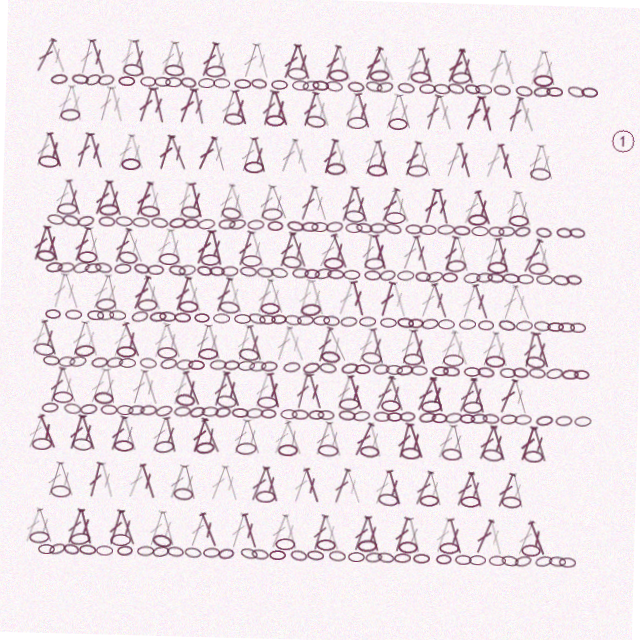chain: (157, 537, 179, 553), (34, 349, 56, 364), (239, 349, 261, 364), (116, 255, 137, 270), (218, 303, 240, 317), (485, 444, 507, 458), (382, 491, 404, 505), (75, 538, 97, 552), (116, 68, 137, 82), (300, 115, 321, 129), (218, 209, 239, 223), (34, 256, 55, 270), (280, 256, 301, 270), (95, 303, 116, 317), (300, 303, 321, 317), (75, 350, 96, 364), (321, 350, 342, 364), (362, 350, 383, 364), (526, 350, 547, 364), (218, 397, 239, 411), (157, 444, 178, 458), (198, 444, 219, 458), (71, 266, 90, 281), (54, 548, 73, 563), (34, 162, 55, 175), (403, 162, 424, 175), (526, 162, 547, 175), (54, 209, 75, 222), (259, 209, 280, 222), (444, 256, 465, 269), (177, 397, 198, 410), (341, 397, 362, 410), (423, 397, 444, 410), (75, 444, 96, 457), (239, 444, 260, 457), (321, 444, 342, 457), (78, 78, 96, 93), (59, 220, 78, 234), (74, 220, 93, 234), (381, 220, 400, 234), (424, 267, 443, 281), (303, 361, 322, 375), (157, 408, 176, 422), (520, 549, 539, 563), (158, 68, 178, 81), (199, 68, 219, 81), (281, 68, 301, 81), (363, 68, 383, 81), (445, 68, 465, 81), (55, 115, 75, 128), (219, 115, 239, 128), (322, 162, 342, 175), (96, 209, 116, 222), (178, 209, 198, 222), (342, 209, 362, 222), (363, 256, 383, 269), (137, 303, 157, 316), (96, 397, 116, 410), (465, 397, 485, 410), (363, 444, 383, 457), (178, 491, 198, 504), (506, 491, 526, 504), (35, 538, 55, 551), (363, 538, 383, 551), (382, 210, 403, 222), (157, 257, 178, 269), (131, 314, 149, 328), (444, 351, 465, 363), (259, 398, 280, 410), (191, 408, 209, 422), (116, 539, 137, 551), (322, 69, 342, 81), (404, 69, 424, 81), (527, 69, 547, 81), (260, 116, 280, 128), (342, 116, 362, 128), (383, 116, 403, 128), (117, 163, 137, 175), (240, 163, 260, 175), (363, 163, 383, 175), (137, 210, 157, 222), (465, 210, 485, 222), (506, 210, 526, 222), (76, 257, 96, 269), (199, 257, 219, 269), (240, 257, 260, 269), (322, 257, 342, 269), (486, 257, 506, 269), (527, 257, 547, 269), (178, 304, 198, 316), (260, 304, 280, 316), (117, 351, 137, 363), (158, 351, 178, 363), (199, 351, 219, 363), (404, 351, 424, 363), (486, 351, 506, 363), (55, 398, 75, 410), (383, 398, 403, 410), (35, 445, 55, 457), (117, 445, 137, 457), (281, 445, 301, 457), (404, 445, 424, 457), (445, 445, 465, 457), (527, 445, 547, 457), (55, 492, 75, 504), (260, 492, 280, 504), (424, 492, 444, 504), (465, 492, 485, 504), (281, 539, 301, 551), (322, 539, 342, 551), (404, 539, 424, 551), (445, 539, 465, 551), (527, 539, 547, 551), (91, 79, 109, 92), (359, 79, 377, 92), (370, 79, 388, 92), (441, 79, 459, 92), (561, 79, 579, 92), (44, 220, 62, 233), (166, 220, 184, 233), (226, 220, 244, 233), (323, 220, 341, 233), (93, 267, 111, 280), (177, 267, 195, 280), (313, 267, 331, 280), (248, 314, 266, 327), (498, 314, 516, 327), (70, 361, 88, 374), (107, 361, 125, 374), (161, 361, 179, 374), (342, 361, 360, 374), (547, 361, 565, 374), (421, 408, 439, 421), (447, 408, 465, 421), (158, 549, 176, 562), (246, 549, 264, 562), (541, 549, 559, 562), (458, 79, 475, 92), (512, 220, 529, 233), (132, 267, 149, 280), (378, 267, 395, 280), (217, 408, 234, 421), (69, 549, 86, 562), (44, 80, 62, 92), (296, 80, 314, 92), (319, 80, 337, 92), (341, 80, 359, 92), (391, 80, 409, 92), (427, 80, 445, 92), (509, 80, 527, 92), (527, 80, 545, 92), (148, 221, 166, 233), (195, 221, 213, 233), (284, 221, 302, 233), (353, 221, 371, 233), (44, 268, 62, 280), (56, 268, 74, 280), (83, 268, 101, 280), (167, 268, 185, 280), (255, 268, 273, 280), (269, 268, 287, 280), (462, 268, 480, 280), (551, 268, 569, 280), (149, 315, 167, 327), (284, 315, 302, 327), (340, 315, 358, 327), (421, 315, 439, 327), (59, 362, 77, 374), (92, 362, 110, 374), (177, 362, 195, 374), (250, 362, 268, 374), (284, 362, 302, 374), (320, 362, 338, 374), (397, 362, 415, 374), (478, 362, 496, 374), (66, 409, 84, 421), (82, 409, 100, 421), (130, 409, 148, 421), (176, 409, 194, 421), (248, 409, 266, 421), (355, 409, 373, 421), (538, 409, 556, 421), (190, 550, 208, 562), (257, 550, 275, 562), (296, 550, 314, 562), (371, 550, 389, 562), (383, 550, 401, 562), (507, 550, 525, 562), (174, 80, 191, 92), (533, 221, 550, 233), (195, 268, 212, 280), (224, 550, 241, 562), (65, 80, 83, 91), (487, 80, 505, 91), (238, 268, 256, 279), (501, 268, 519, 279), (142, 409, 160, 420), (306, 80, 323, 91), (469, 80, 486, 91), (575, 80, 592, 91), (113, 221, 130, 232), (216, 221, 233, 232), (245, 221, 262, 232), (367, 221, 384, 232), (435, 221, 452, 232), (496, 221, 513, 232), (113, 268, 130, 279), (220, 268, 237, 279), (291, 268, 308, 279), (396, 268, 413, 279), (475, 268, 492, 279), (486, 268, 503, 279), (97, 315, 114, 326), (109, 315, 126, 326), (159, 315, 176, 326), (297, 315, 314, 326), (313, 315, 330, 326), (323, 315, 340, 326), (359, 315, 376, 326), (397, 315, 414, 326), (459, 315, 476, 326), (516, 315, 533, 326), (534, 315, 551, 326), (44, 362, 61, 373), (141, 362, 158, 373), (211, 362, 228, 373), (239, 362, 256, 373), (262, 362, 279, 373), (374, 362, 391, 373), (530, 362, 547, 373), (44, 409, 61, 420), (204, 409, 221, 420), (341, 409, 358, 420), (473, 409, 490, 420), (485, 409, 502, 420), (503, 409, 520, 420), (517, 409, 534, 420), (558, 409, 575, 420), (577, 409, 594, 420), (85, 550, 102, 561), (143, 550, 160, 561), (173, 550, 190, 561), (209, 550, 226, 561), (313, 550, 330, 561), (335, 550, 352, 561), (555, 550, 572, 561), (245, 80, 261, 91), (554, 221, 570, 232), (567, 221, 583, 232), (565, 268, 581, 279), (271, 315, 287, 326), (225, 362, 241, 373), (514, 362, 530, 373), (402, 409, 418, 420), (123, 550, 139, 561), (112, 81, 129, 91), (148, 81, 165, 91), (159, 81, 176, 91), (192, 81, 209, 91), (207, 81, 224, 91), (228, 81, 245, 91), (265, 81, 282, 91), (286, 81, 303, 91), (413, 81, 430, 91), (540, 81, 557, 91), (96, 222, 113, 232), (130, 222, 147, 232), (299, 222, 316, 232), (309, 222, 326, 232), (343, 222, 360, 232), (403, 222, 420, 232), (417, 222, 434, 232), (451, 222, 468, 232), (469, 222, 486, 232), (146, 269, 163, 279), (326, 269, 343, 279), (342, 269, 359, 279), (363, 269, 380, 279), (516, 269, 533, 279), (535, 269, 552, 279), (65, 316, 82, 326), (87, 316, 104, 326), (174, 316, 191, 326), (213, 316, 230, 326), (234, 316, 251, 326), (259, 316, 276, 326), (380, 316, 397, 326), (438, 316, 455, 326), (547, 316, 564, 326), (558, 316, 575, 326), (120, 363, 137, 373), (189, 363, 206, 373), (387, 363, 404, 373), (412, 363, 429, 373), (433, 363, 450, 373), (444, 363, 461, 373), (465, 363, 482, 373), (563, 363, 580, 373), (103, 410, 120, 420), (119, 410, 136, 420), (234, 410, 251, 420), (283, 410, 300, 420), (294, 410, 311, 420), (320, 410, 337, 420), (376, 410, 393, 420), (44, 551, 61, 561), (102, 551, 119, 561), (275, 551, 292, 561), (354, 551, 371, 561), (400, 551, 417, 561), (419, 551, 436, 561), (461, 551, 478, 561), (475, 551, 492, 561), (495, 551, 512, 561), (565, 551, 582, 561), (134, 81, 150, 91), (181, 222, 197, 232), (265, 222, 281, 232), (486, 222, 502, 232), (208, 269, 224, 279), (303, 269, 319, 279), (414, 269, 430, 279), (441, 269, 457, 279), (45, 316, 61, 326), (194, 316, 210, 326), (408, 316, 424, 326), (478, 316, 494, 326), (570, 316, 586, 326), (356, 363, 372, 373), (501, 363, 517, 373), (575, 363, 591, 373), (263, 410, 279, 420), (311, 410, 327, 420), (389, 410, 405, 420), (434, 410, 450, 420), (462, 410, 478, 420), (442, 551, 458, 561)
double: (26, 44, 52, 81), (366, 44, 392, 81), (313, 232, 339, 269), (325, 326, 351, 363), (190, 138, 215, 175), (386, 185, 411, 222), (518, 232, 543, 269), (140, 279, 165, 316), (509, 279, 534, 316), (120, 326, 145, 363), (374, 373, 399, 410), (415, 373, 440, 410), (38, 420, 63, 457), (202, 420, 227, 457), (354, 420, 379, 457), (202, 514, 227, 551), (39, 44, 63, 81), (355, 44, 379, 81), (437, 44, 461, 81), (305, 91, 329, 128), (162, 138, 186, 175), (264, 185, 288, 222), (375, 185, 399, 222), (457, 185, 481, 222), (121, 232, 145, 269), (285, 232, 309, 269), (326, 232, 350, 269), (88, 279, 112, 316), (129, 279, 153, 316), (162, 326, 186, 363), (285, 326, 309, 363), (437, 326, 461, 363), (449, 326, 473, 363), (182, 373, 206, 410), (457, 373, 481, 410), (498, 373, 522, 410), (273, 420, 297, 457), (285, 420, 309, 457), (437, 420, 461, 457), (478, 420, 502, 457), (416, 467, 440, 504), (457, 467, 481, 504), (498, 467, 522, 504), (121, 514, 145, 551), (478, 514, 502, 551), (519, 514, 543, 551), (531, 514, 555, 551), (80, 44, 103, 81), (191, 44, 214, 81), (273, 44, 296, 81), (326, 44, 349, 81), (396, 44, 419, 81), (449, 44, 472, 81), (170, 91, 193, 128), (264, 91, 287, 128), (457, 91, 480, 128), (510, 91, 533, 128), (273, 138, 296, 175), (285, 138, 308, 175), (326, 138, 349, 175), (478, 138, 501, 175), (88, 185, 111, 222), (129, 185, 152, 222), (223, 185, 246, 222), (469, 185, 492, 222), (510, 185, 533, 222), (109, 232, 132, 269), (191, 232, 214, 269), (531, 232, 554, 269), (59, 279, 82, 316), (264, 279, 287, 316), (334, 279, 357, 316), (416, 279, 439, 316), (428, 279, 451, 316), (469, 279, 492, 316), (39, 326, 62, 363), (355, 326, 378, 363), (59, 373, 82, 410), (88, 373, 111, 410), (141, 373, 164, 410), (223, 373, 246, 410), (387, 373, 410, 410), (27, 420, 50, 457), (80, 420, 103, 457), (408, 420, 431, 457), (59, 467, 82, 504), (129, 467, 152, 504), (141, 467, 164, 504), (170, 467, 193, 504), (211, 467, 234, 504), (252, 467, 275, 504), (305, 467, 328, 504), (346, 467, 369, 504), (375, 467, 398, 504), (27, 514, 50, 551), (39, 514, 62, 551), (244, 514, 267, 551), (273, 514, 296, 551), (326, 514, 349, 551), (286, 44, 308, 81), (315, 44, 337, 81), (409, 44, 431, 81), (479, 44, 501, 81), (491, 44, 513, 81), (48, 91, 70, 128), (224, 91, 246, 128), (347, 91, 369, 128), (388, 91, 410, 128), (429, 91, 451, 128), (28, 138, 50, 175), (40, 138, 62, 175), (81, 138, 103, 175), (110, 138, 132, 175), (122, 138, 144, 175), (356, 138, 378, 175), (397, 138, 419, 175), (409, 138, 431, 175), (438, 138, 460, 175), (491, 138, 513, 175), (48, 185, 70, 222), (60, 185, 82, 222), (101, 185, 123, 222), (212, 185, 234, 222), (294, 185, 316, 222), (306, 185, 328, 222), (347, 185, 369, 222), (28, 232, 50, 269), (69, 232, 91, 269), (151, 232, 173, 269), (245, 232, 267, 269), (274, 232, 296, 269), (397, 232, 419, 269), (171, 279, 193, 316), (183, 279, 205, 316), (212, 279, 234, 316), (224, 279, 246, 316), (253, 279, 275, 316), (306, 279, 328, 316), (388, 279, 410, 316), (28, 326, 50, 363), (81, 326, 103, 363), (110, 326, 132, 363), (204, 326, 226, 363), (245, 326, 267, 363), (409, 326, 431, 363), (479, 326, 501, 363), (491, 326, 513, 363), (532, 326, 554, 363), (171, 373, 193, 410), (253, 373, 275, 410), (306, 373, 328, 410), (335, 373, 357, 410), (347, 373, 369, 410), (511, 373, 533, 410), (110, 420, 132, 457), (122, 420, 144, 457), (151, 420, 173, 457), (245, 420, 267, 457), (315, 420, 337, 457), (327, 420, 349, 457), (491, 420, 513, 457), (520, 420, 542, 457), (532, 420, 554, 457), (224, 467, 246, 504), (265, 467, 287, 504), (294, 467, 316, 504), (335, 467, 357, 504), (388, 467, 410, 504), (69, 514, 91, 551), (192, 514, 214, 551), (356, 514, 378, 551), (450, 514, 472, 551), (151, 44, 172, 81), (163, 44, 184, 81), (204, 44, 225, 81), (233, 44, 254, 81), (245, 44, 266, 81), (520, 44, 541, 81), (532, 44, 553, 81), (101, 91, 122, 128), (130, 91, 151, 128), (212, 91, 233, 128), (294, 91, 315, 128), (376, 91, 397, 128), (417, 91, 438, 128), (69, 138, 90, 175), (151, 138, 172, 175), (204, 138, 225, 175), (233, 138, 254, 175), (245, 138, 266, 175), (368, 138, 389, 175), (450, 138, 471, 175), (532, 138, 553, 175), (142, 185, 163, 222), (183, 185, 204, 222), (253, 185, 274, 222), (335, 185, 356, 222), (40, 232, 61, 269), (233, 232, 254, 269), (368, 232, 389, 269), (409, 232, 430, 269), (450, 232, 471, 269), (491, 232, 512, 269), (347, 279, 368, 316), (376, 279, 397, 316), (458, 279, 479, 316), (499, 279, 520, 316), (69, 326, 90, 363), (151, 326, 172, 363), (274, 326, 295, 363), (315, 326, 336, 363), (368, 326, 389, 363), (48, 373, 69, 410), (130, 373, 151, 410), (212, 373, 233, 410), (429, 373, 450, 410), (470, 373, 491, 410), (69, 420, 90, 457), (192, 420, 213, 457), (233, 420, 254, 457), (368, 420, 389, 457), (48, 467, 69, 504), (101, 467, 122, 504), (429, 467, 450, 504), (470, 467, 491, 504), (81, 514, 102, 551), (151, 514, 172, 551), (163, 514, 184, 551), (233, 514, 254, 551), (286, 514, 307, 551), (315, 514, 336, 551), (368, 514, 389, 551), (397, 514, 418, 551), (438, 514, 459, 551), (491, 514, 512, 551), (123, 44, 143, 81), (61, 91, 81, 128), (90, 91, 110, 128), (143, 91, 163, 128), (336, 91, 356, 128), (471, 91, 491, 128), (500, 91, 520, 128), (316, 138, 336, 175), (521, 138, 541, 175), (418, 185, 438, 222), (430, 185, 450, 222), (82, 232, 102, 269), (164, 232, 184, 269), (205, 232, 225, 269), (439, 232, 459, 269), (480, 232, 500, 269), (49, 279, 69, 316), (193, 326, 213, 363), (234, 326, 254, 363), (398, 326, 418, 363), (266, 373, 286, 410), (164, 420, 184, 457), (451, 420, 471, 457), (184, 467, 204, 504), (512, 467, 532, 504), (111, 514, 131, 551), (410, 514, 430, 551), (70, 44, 89, 81), (111, 44, 130, 81), (184, 91, 203, 128), (254, 91, 273, 128), (172, 185, 191, 222), (500, 185, 519, 222), (102, 279, 121, 316), (295, 279, 314, 316), (521, 326, 540, 363), (295, 373, 314, 410), (398, 420, 417, 457), (90, 467, 109, 504), (103, 373, 121, 410), (358, 232, 375, 269)
noise: (605, 120, 632, 147)
